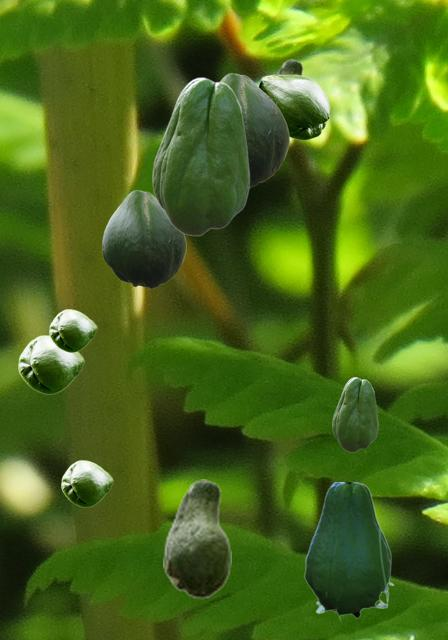sayote: (152, 77, 249, 235), (304, 482, 393, 620), (102, 190, 185, 288), (163, 479, 230, 598), (220, 73, 288, 187), (258, 74, 329, 139), (18, 335, 83, 393), (332, 377, 377, 451), (61, 460, 112, 506), (49, 309, 96, 351), (275, 59, 305, 74)
